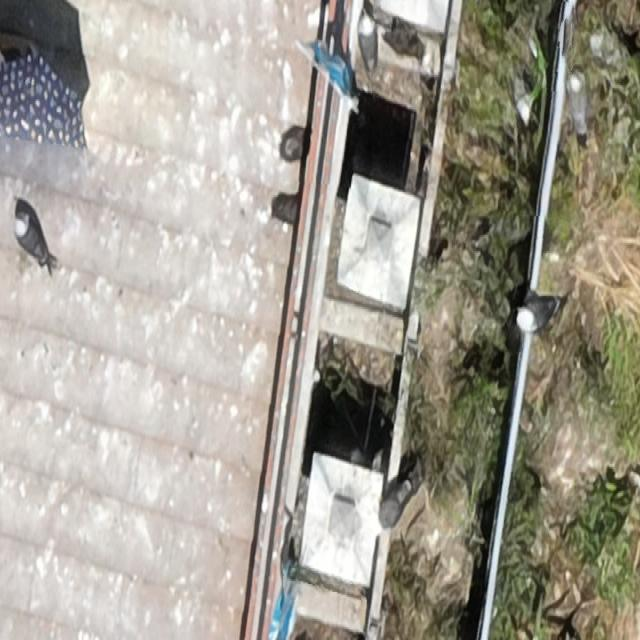umineko: (517, 294, 565, 333), (568, 63, 589, 146), (14, 215, 45, 264), (359, 10, 378, 72)
